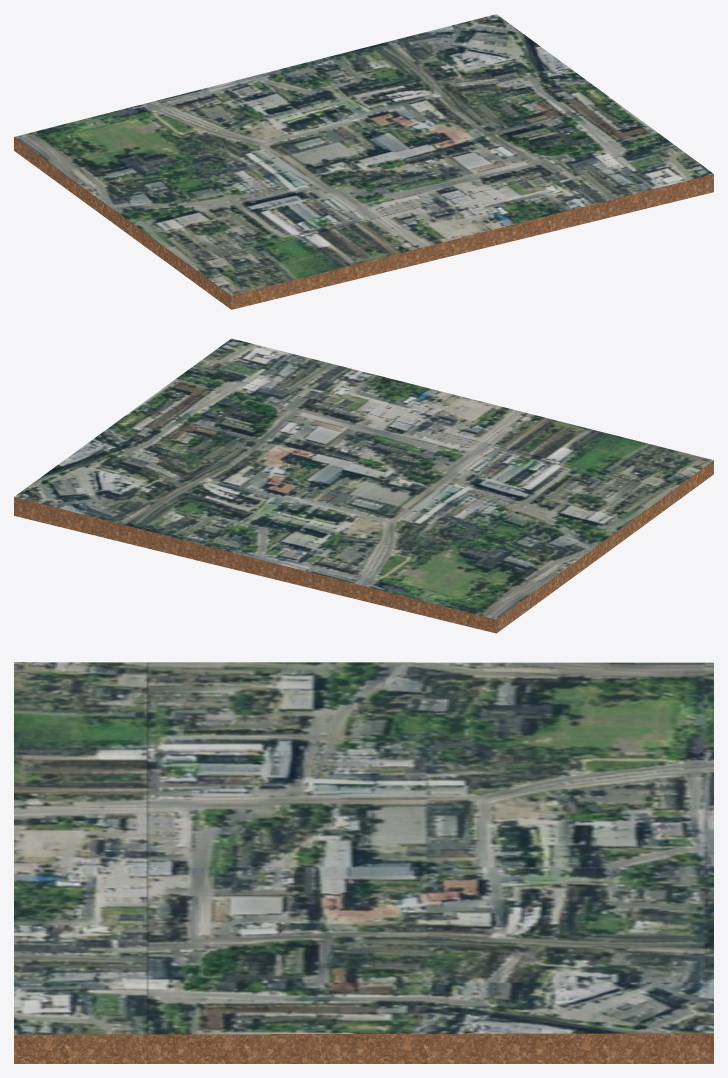
The model's file is terrain.glb.
3 renders of one model, top to bottom at view 1: azimuth 30°, elevation 25°; view 2: azimuth 150°, elevation 25°; view 3: azimuth 270°, elevation 25°, orthographic. The views are drawn at different scales.
Visible parts, largest first — view 1: tinMesh, side_south_tin, side_west_tin; view 2: tinMesh, side_north_tin, side_west_tin; view 3: tinMesh, side_east_tin.
Boxes of the visible parts, x1=… form: tinMesh: x1=14, y1=14, x2=713, y2=295; side_south_tin: x1=231, y1=174, x2=713, y2=309; side_west_tin: x1=14, y1=137, x2=231, y2=309; tinMesh: x1=14, y1=338, x2=713, y2=619; side_north_tin: x1=14, y1=497, x2=496, y2=633; side_west_tin: x1=496, y1=460, x2=713, y2=632; tinMesh: x1=14, y1=662, x2=713, y2=1034; side_east_tin: x1=14, y1=1033, x2=713, y2=1063.
Size of the model in its own units: 984 by 36.8 by 768.
Materials: 2 (2 with a texture image).
